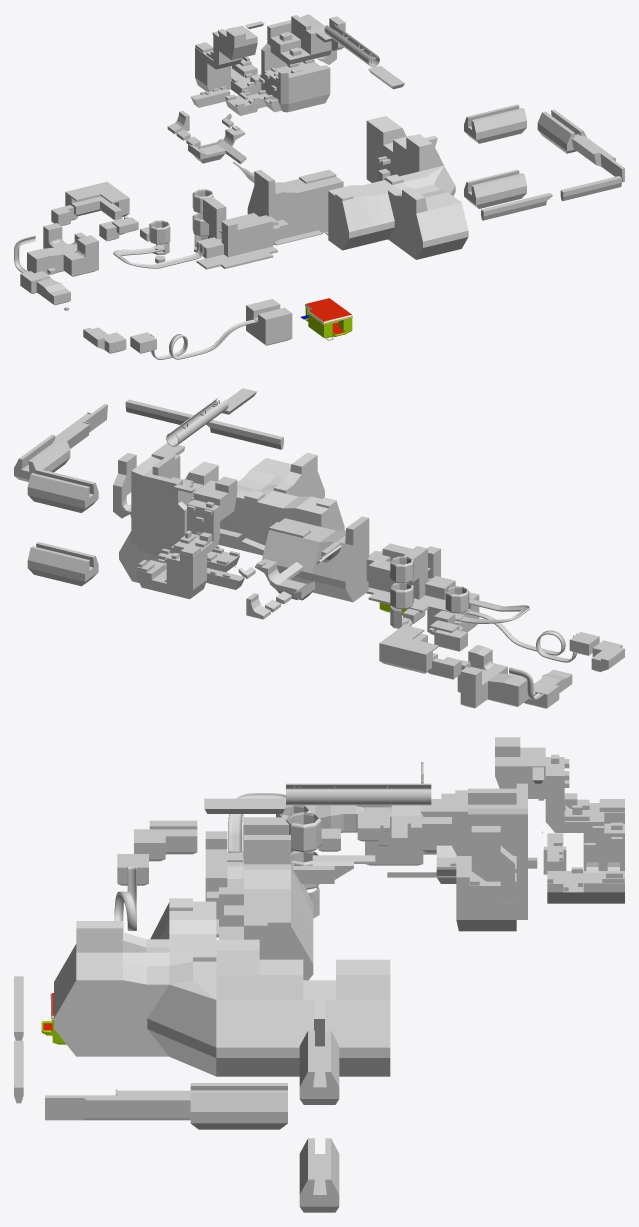
The model's file is Level.fbx.
3 renders of one model, top to bottom at view 1: azimuth 30°, elevation 25°; view 2: azimuth 150°, elevation 25°; view 3: azimuth 270°, elevation 25°, orthographic. The views are drawn at different scales.
Visible parts, largest first — view 1: Cube.027, Cube.047, Cube.026, Cube.020, Cube.008, Cube.037, Cube.034, Cube.021, Cube.019, Cube.003, Cube.035, Plane (+10 smaller); view 2: Cube.047, Cube.027, Cube.026, Cube.020, Cube.008, Cube.037, Cube.021, Cube.034, Cube.019, Cube.035, Cube.032, Cube.007 (+14 smaller); view 3: Cube.027, Cube.047, Cube.026, Cube.032, Cube.033, Cube.020, Cylinder, Cube.037, Cube.021, Cube.034, Cube.008, Cube.046 (+11 smaller).
Part boxes in pixels (box(x1,y1,x2,y2)): Cube.027: box(328, 116, 468, 259); Cube.047: box(190, 14, 333, 115); Cube.026: box(247, 169, 343, 245); Cube.020: box(196, 197, 280, 269); Cube.008: box(27, 223, 98, 276); Cube.037: box(167, 110, 254, 182); Cube.034: box(464, 104, 526, 143); Cube.021: box(464, 169, 526, 208); Cube.019: box(65, 181, 129, 220); Cube.003: box(246, 299, 292, 345); Cube.035: box(481, 176, 621, 220); Plane: box(300, 298, 352, 338); Cube.047: box(131, 442, 245, 599); Cube.027: box(119, 452, 344, 582); Cube.026: box(261, 516, 369, 602); Cube.020: box(366, 543, 455, 612); Cube.008: box(457, 645, 528, 708); Cube.037: box(238, 541, 341, 619); Cube.021: box(27, 542, 98, 586); Cube.034: box(27, 468, 98, 512); Cube.019: box(379, 625, 438, 673); Cube.035: box(125, 399, 283, 449); Cube.032: box(14, 434, 70, 481); Cube.007: box(429, 628, 572, 708); Cube.027: box(54, 898, 390, 1076); Cube.047: box(420, 737, 624, 931); Cube.026: box(224, 835, 313, 980); Cube.032: box(190, 1083, 287, 1129); Cube.033: box(45, 1090, 190, 1120); Cube.020: box(205, 817, 288, 939); Cylinder: box(286, 783, 431, 805); Cube.037: box(293, 845, 566, 883); Cube.021: box(299, 1138, 339, 1212); Cube.034: box(299, 1030, 339, 1104); Cube.008: box(365, 793, 455, 865); Cube.046: box(471, 826, 514, 903).
Bounding box in the file's own units: 150268 × 59470 × 95034.
